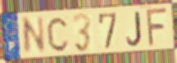3: (72, 12, 94, 54)
7: (97, 11, 118, 50)
C: (46, 15, 71, 53)
F: (146, 6, 170, 49)
J: (125, 11, 143, 47)
N: (22, 15, 47, 58)
